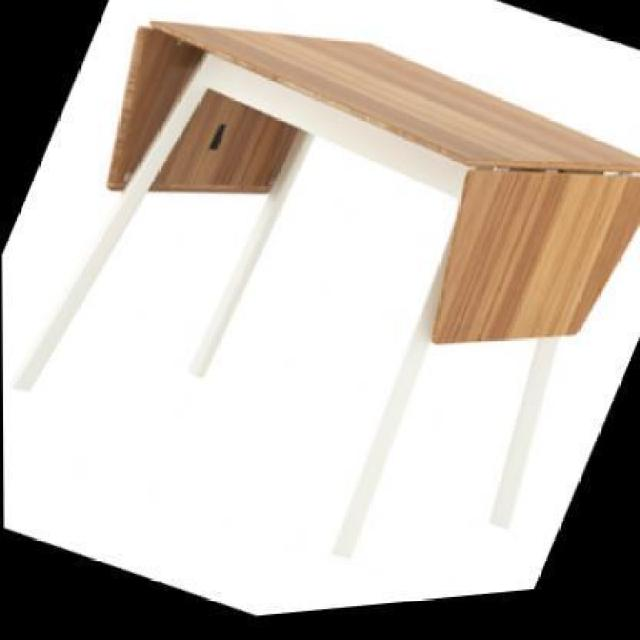tables: (0, 0, 638, 617)
